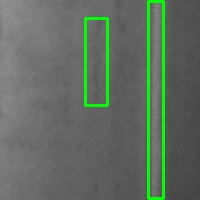inclusion: (85, 18, 107, 105)
scratches: (148, 1, 163, 198)
